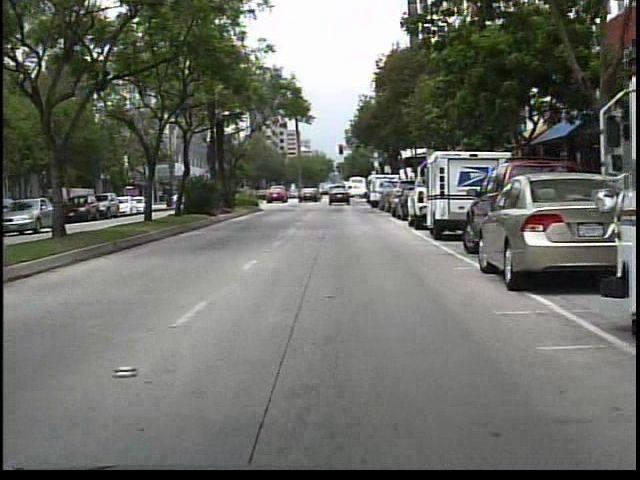person: (327, 183, 341, 203)
